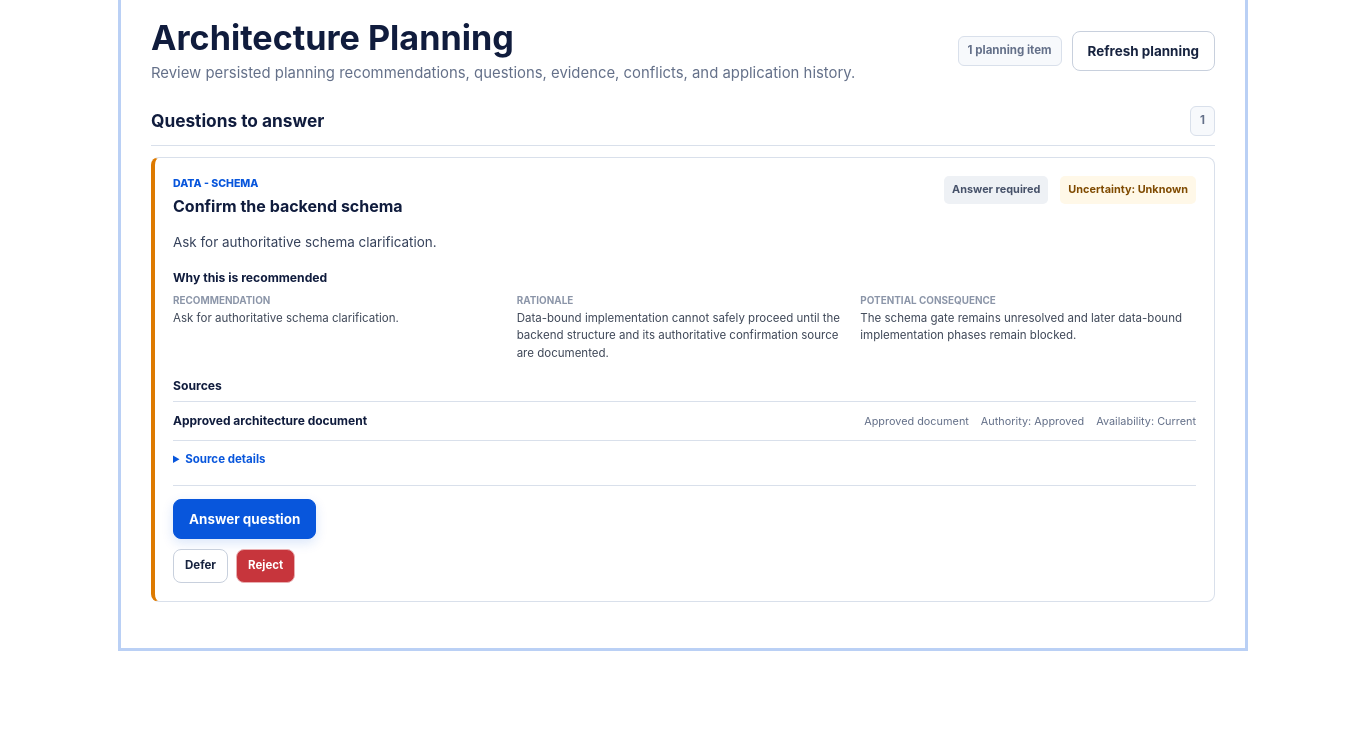
Scenario: PlanningView › makes an existing canonical single-SharePoint proposal answerable without automatic actions
Click the button "Answer question".
click(245, 519)  # box [173, 499, 316, 539]
(page scrolled)
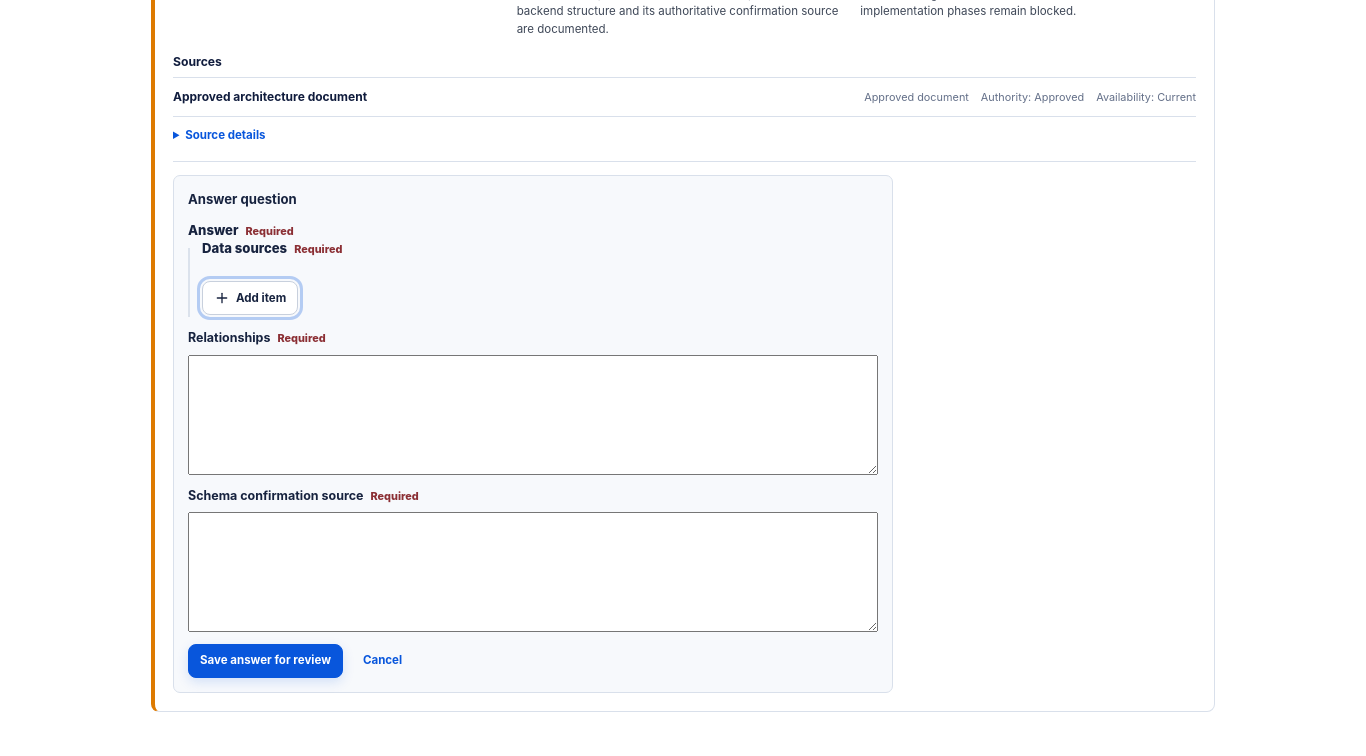
expect the button with aria-label "Add item to Data sources" is shown: met, box [202, 281, 298, 315]
expect the text box labelled "Relationships Required" is shown: met, box [188, 355, 878, 475]
expect the text box labelled "Schema confirmation source Required" is shown: met, box [188, 512, 878, 632]
